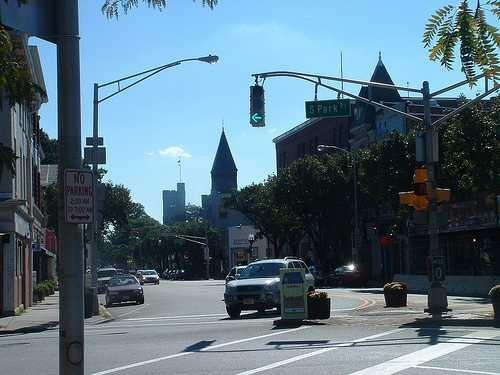green: (249, 82, 265, 128), (251, 112, 265, 126)
